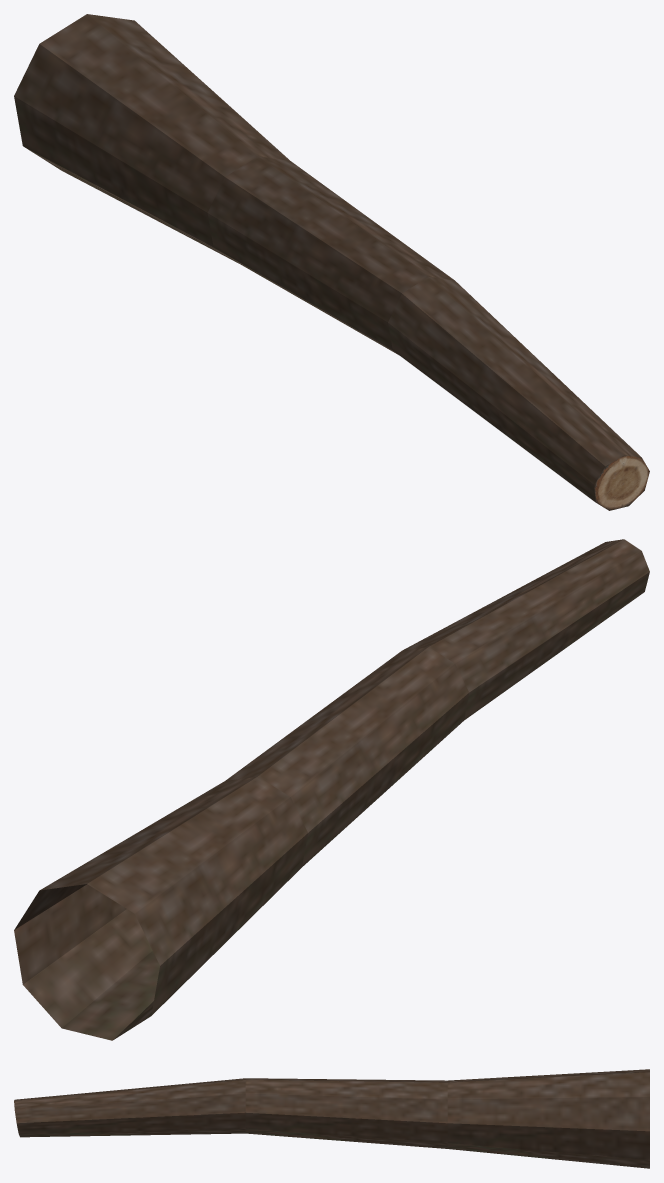
The model's file is sdwsk-timberman-branch1.fbx.
3 views of the same model, one above another, from view 1: azimuth 30°, elevation 25°; view 2: azimuth 150°, elevation 25°; view 3: azimuth 270°, elevation 25° (orthographic). The views are drawn at different scales.
Parts seen in each view (by area): view 1: sdwsk-timberman-branch1; view 2: sdwsk-timberman-branch1; view 3: sdwsk-timberman-branch1.
Part boxes in pixels (bbox=[...]): sdwsk-timberman-branch1: bbox=[14, 14, 649, 510]; sdwsk-timberman-branch1: bbox=[14, 539, 649, 1040]; sdwsk-timberman-branch1: bbox=[14, 1069, 649, 1168].
Bounding box in the file's own units: 39.53 × 38.93 × 252.
1 material, 1 textured.
